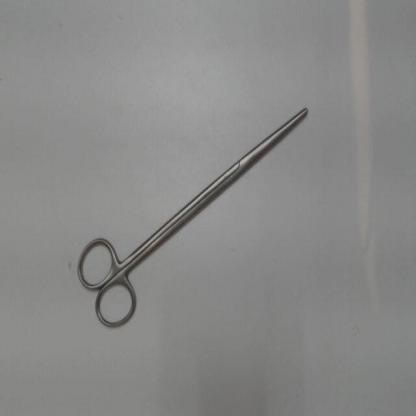9 Metzenbaum Scissors: (74, 102, 318, 340)
